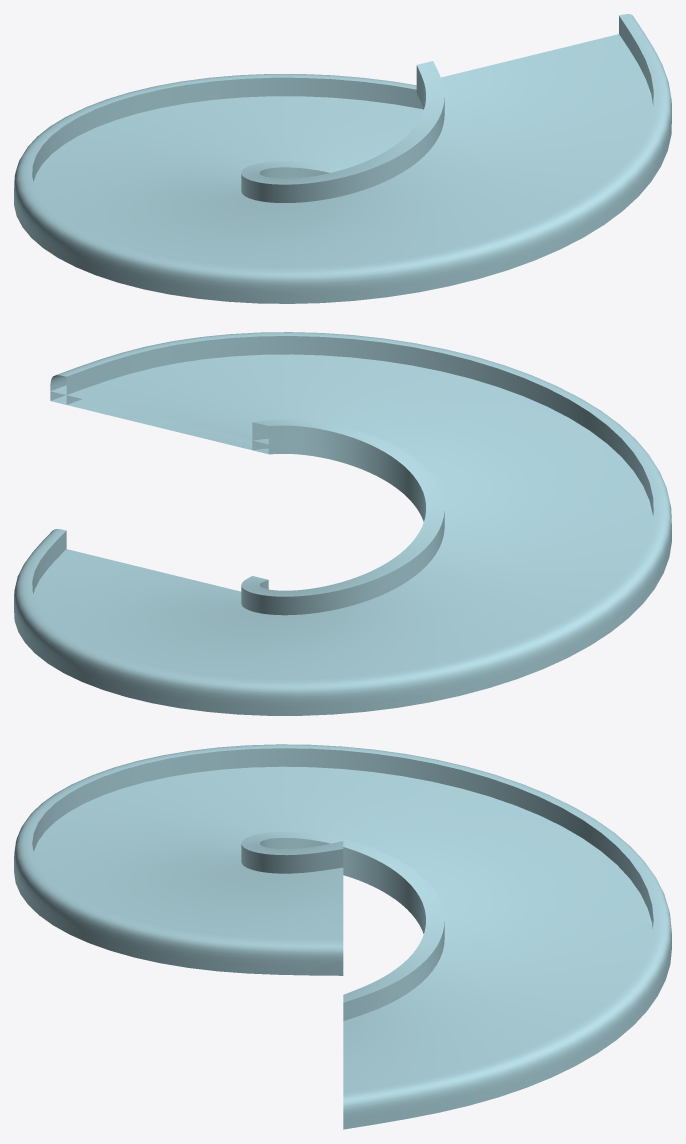
The model's file is espiralEsquerda (2).fbx.
The picture shows the model from 3 angles, top to bottom: view 1: azimuth 30°, elevation 25°; view 2: azimuth 150°, elevation 25°; view 3: azimuth 270°, elevation 25°; orthographic projection.
Visible parts, largest first — view 1: Plane.002; view 2: Plane.002; view 3: Plane.002.
Boxes of the visible parts, left/top/right/bottom form: Plane.002: left=14, top=14, right=671, bottom=303; Plane.002: left=14, top=332, right=671, bottom=715; Plane.002: left=14, top=744, right=671, bottom=1129.
Size of the model in its own units: 3134 by 944 by 3094.
